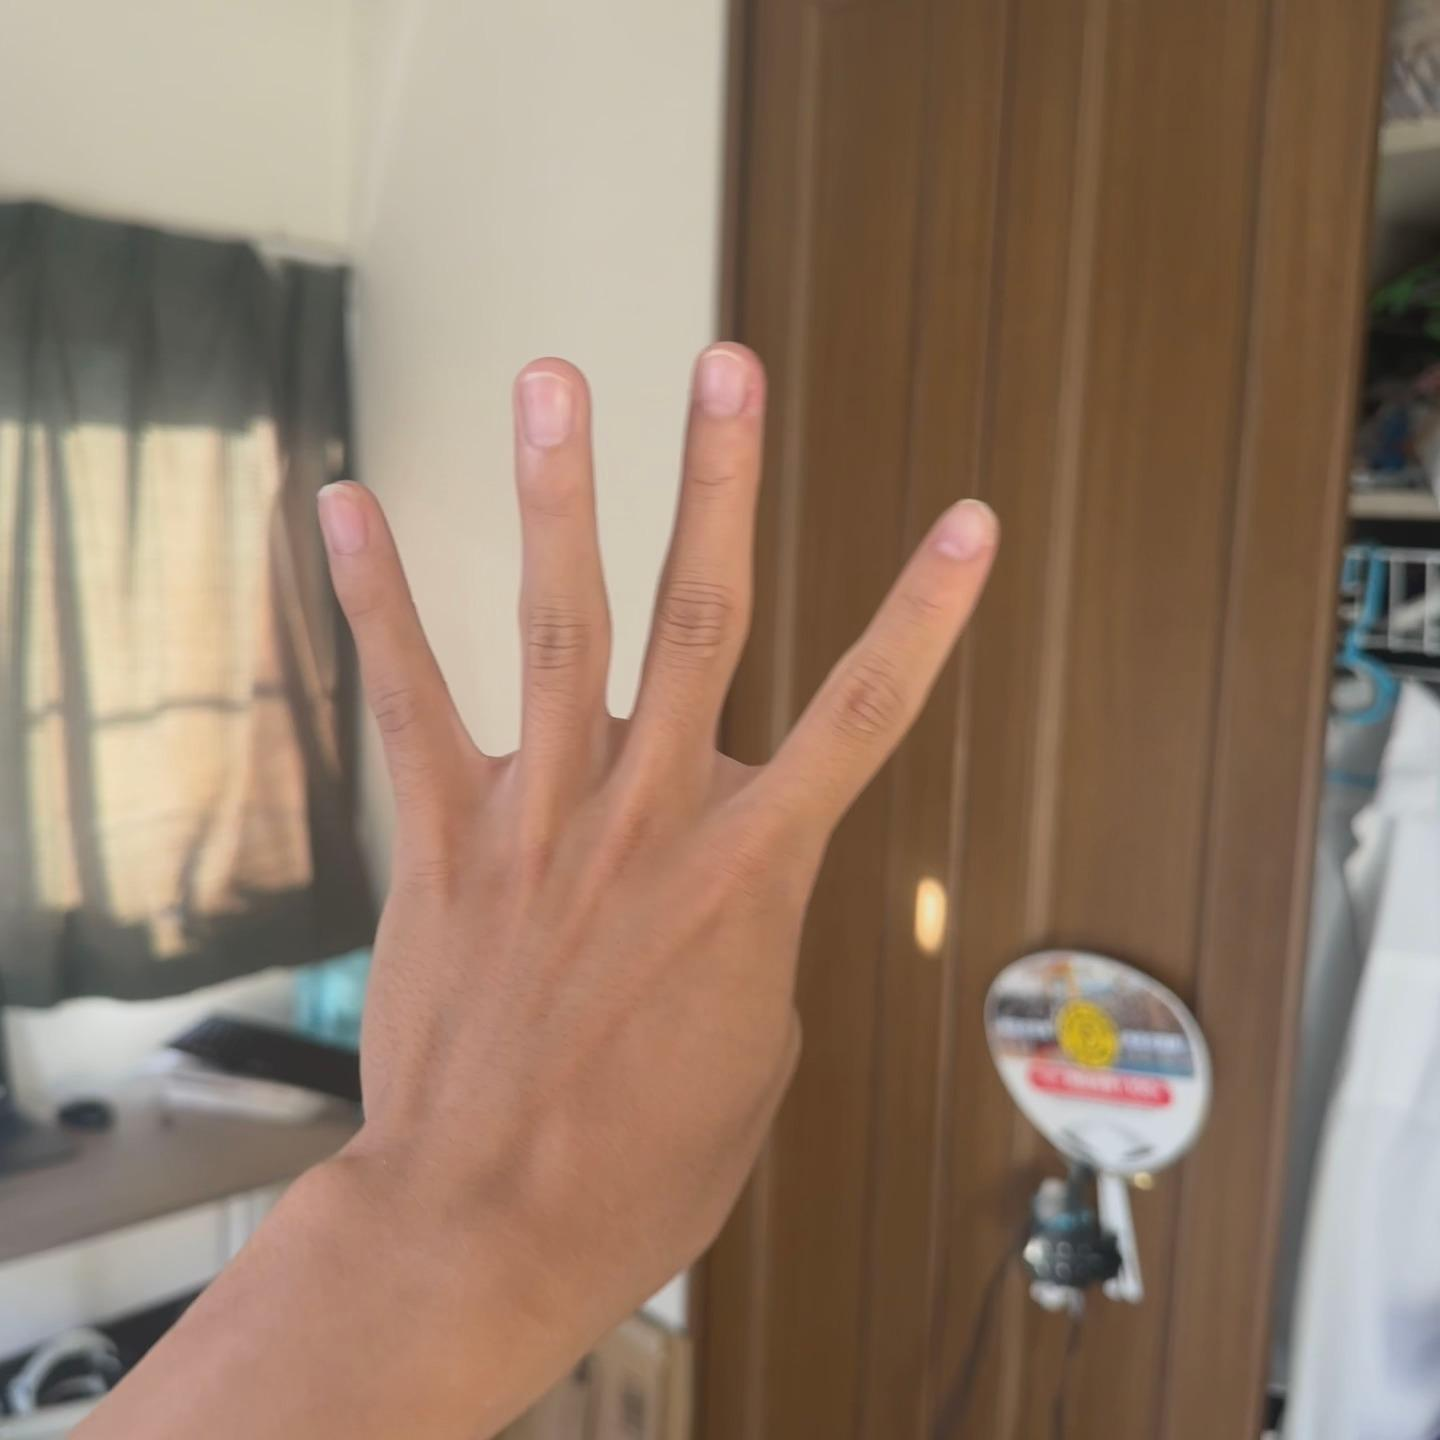without_gloves: (157, 0, 1274, 1440)
